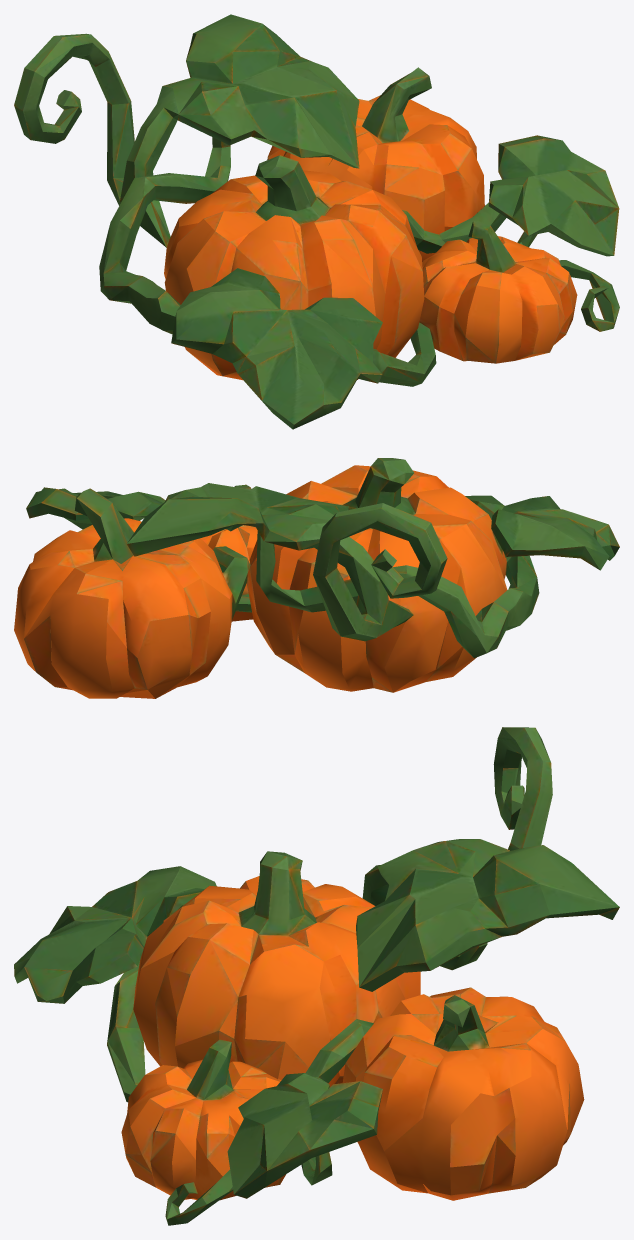
The model's file is crop-pumpkin.glb.
The picture shows the model from 3 angles, top to bottom: view 1: azimuth 30°, elevation 25°; view 2: azimuth 150°, elevation 25°; view 3: azimuth 270°, elevation 25°; orthographic projection. The views are drawn at different scales.
Visible parts, largest first — view 1: crop-pumpkin-fit; view 2: crop-pumpkin-fit; view 3: crop-pumpkin-fit.
Boxes of the visible parts, <box> form: crop-pumpkin-fit: <box>14,14,619,429</box>; crop-pumpkin-fit: <box>14,458,619,698</box>; crop-pumpkin-fit: <box>14,727,619,1225</box>.
Size of the model in its own units: 1.16 by 0.6 by 1.11.
Materials: 1 (1 with a texture image).
